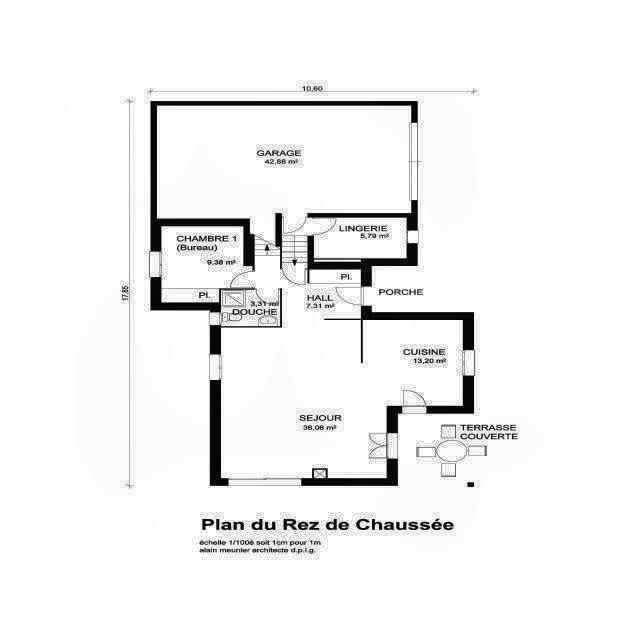room: (221, 269, 463, 480), (157, 105, 411, 219), (161, 226, 253, 303), (314, 218, 407, 258), (221, 290, 280, 326), (282, 217, 307, 268), (255, 247, 280, 288)
